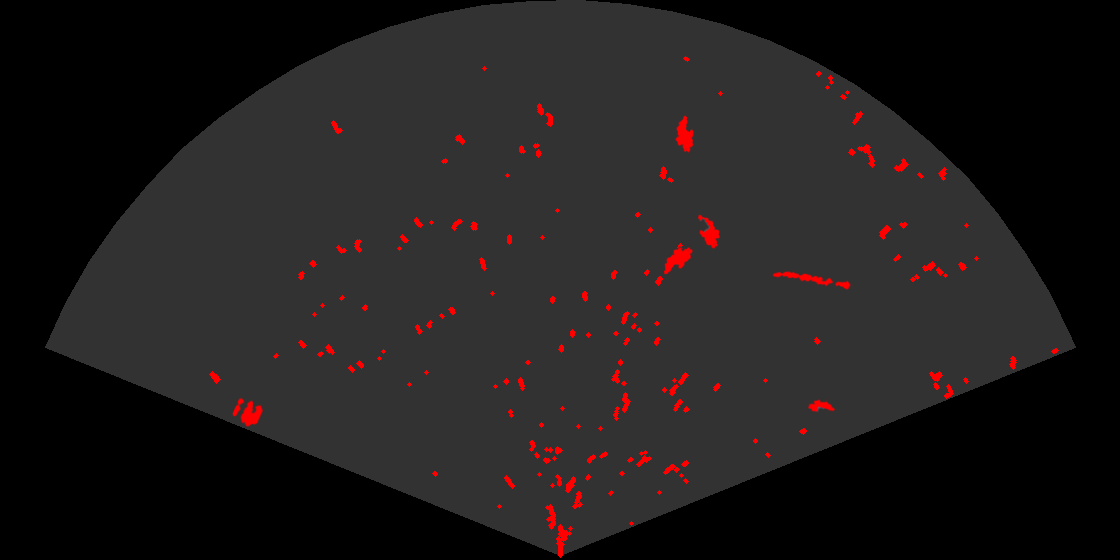AUV: (696, 213, 722, 250), (662, 246, 694, 276), (674, 114, 695, 154), (806, 396, 837, 414)
ball: (231, 396, 265, 429)
chain: (771, 270, 854, 291)
